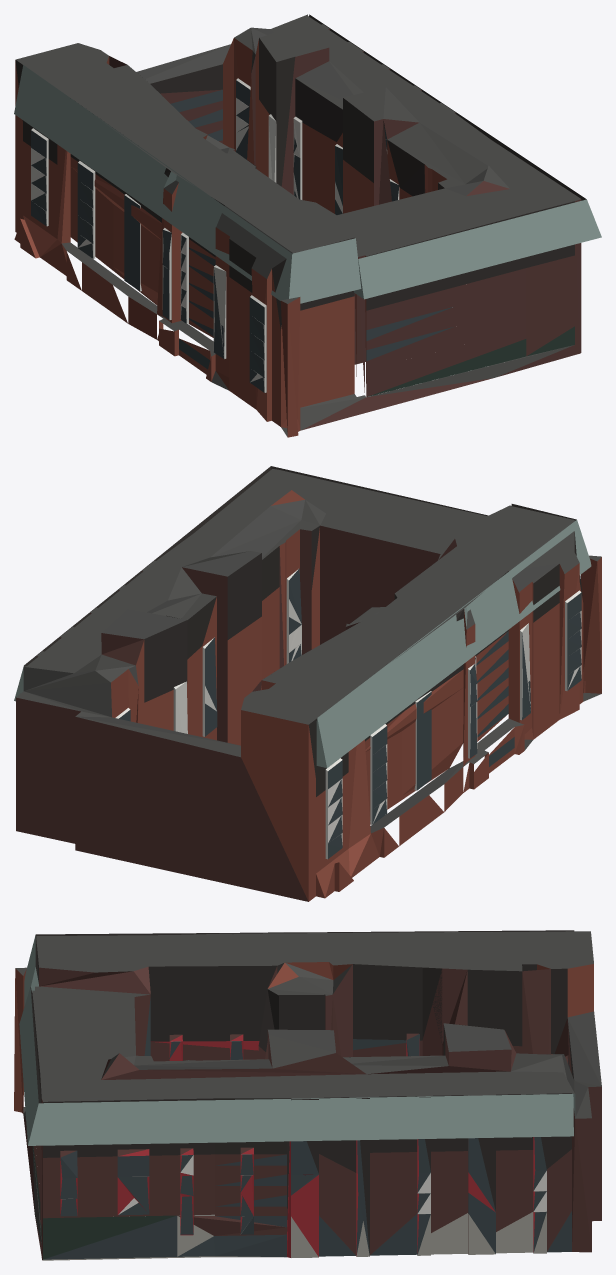
Rendered from pieter-de-hoochstraat-13.lod2.glb.
3 views of the same model, one above another, from view 1: azimuth 30°, elevation 25°; view 2: azimuth 150°, elevation 25°; view 3: azimuth 270°, elevation 25° (orthographic). The views are drawn at different scales.
Parts seen in each view (by area): view 1: lod2; view 2: lod2; view 3: lod2.
Boxes of the visible parts, x1=… form: lod2: x1=14, y1=14, x2=601, y2=437; lod2: x1=14, y1=466, x2=601, y2=901; lod2: x1=14, y1=930, x2=601, y2=1260.
Bounding box in the file's own units: 50.24 × 25.87 × 75.94.
